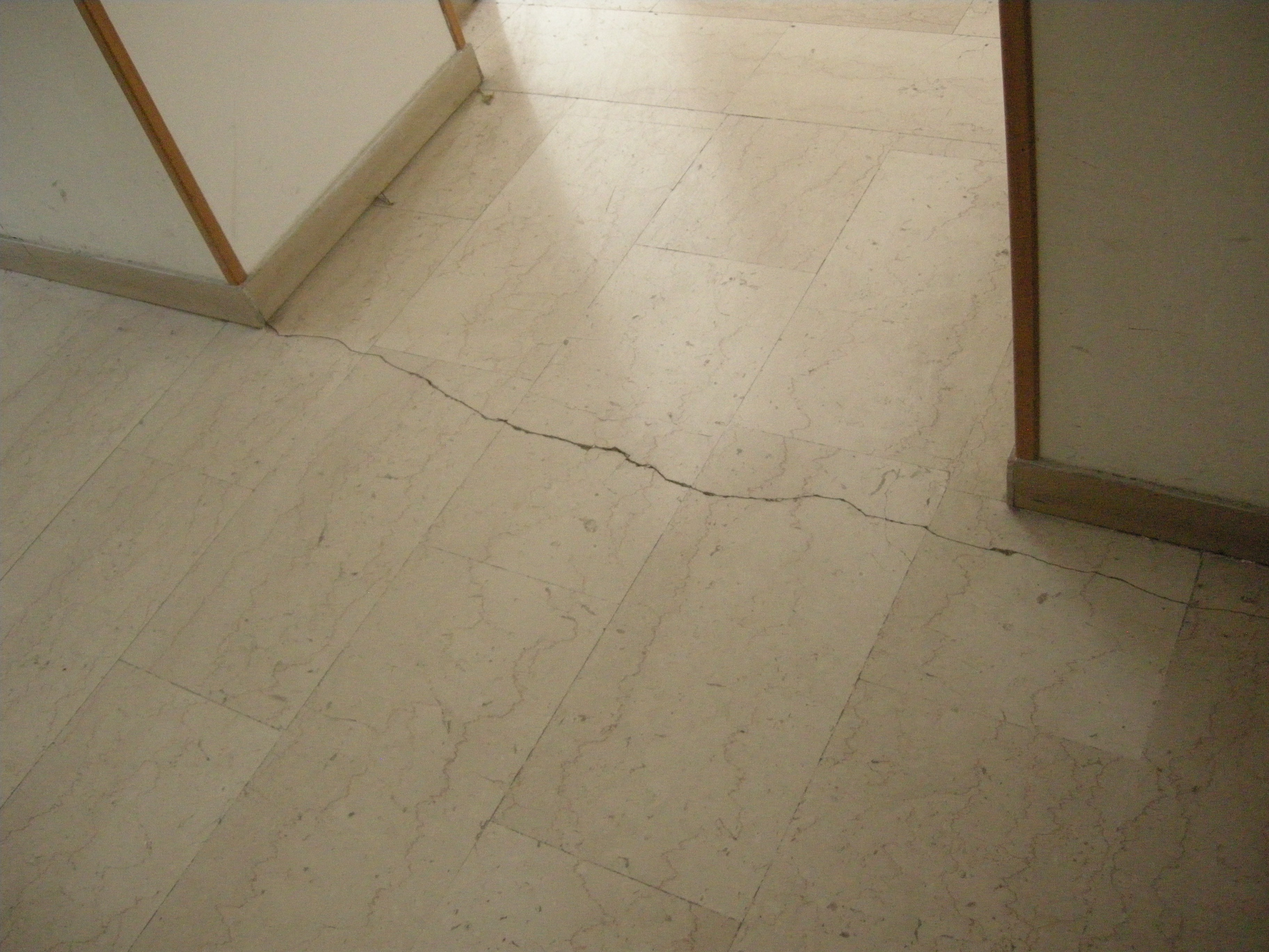Non structural damage: (161, 283, 1266, 715)
